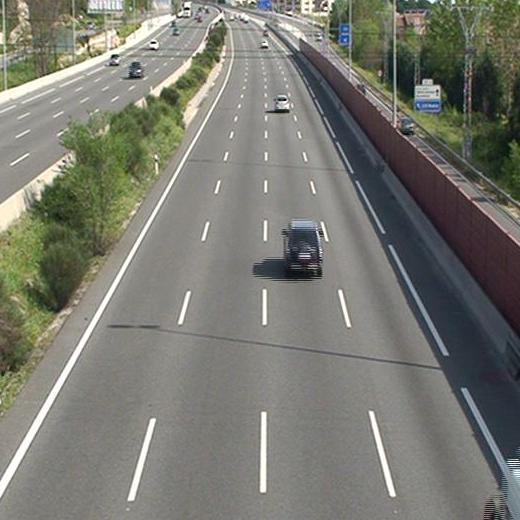car: (285, 221, 322, 275), (275, 95, 290, 111)
